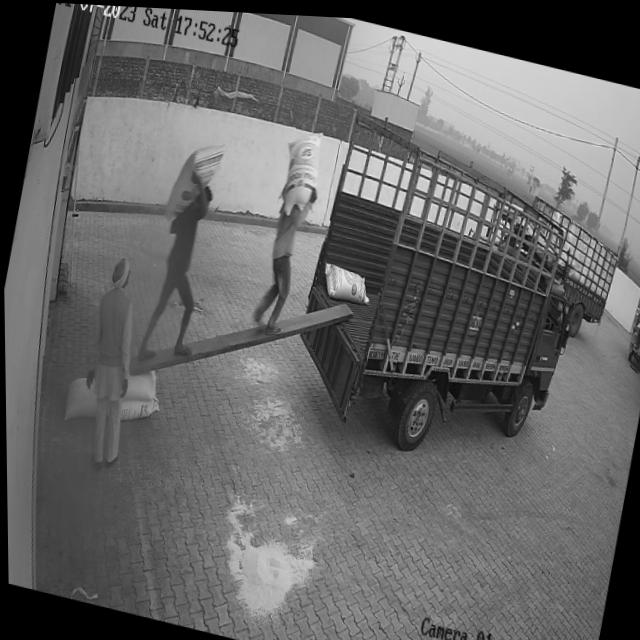sack: (162, 132, 227, 228), (275, 121, 327, 218), (317, 257, 374, 305), (60, 371, 103, 424), (117, 389, 159, 427), (121, 364, 158, 405)
